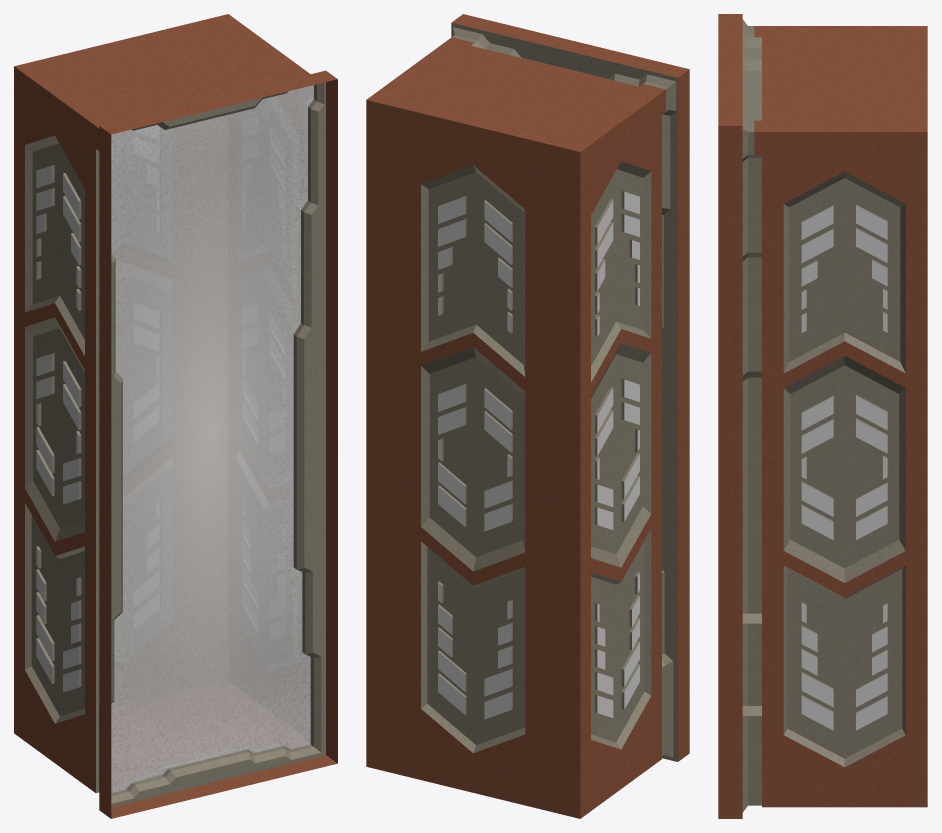
The model's file is building4.dae.
3 views of the same model, side by side, from view 1: azimuth 30°, elevation 25°; view 2: azimuth 150°, elevation 25°; view 3: azimuth 270°, elevation 25° (orthographic).
Visible parts, largest first — view 1: group_0, Ancient_Stasis_Chamber (×7); view 2: Ancient_Stasis_Chamber (×10); view 3: Ancient_Stasis_Chamber (×22).
Part boxes in pixels (x1,y1,x2,y2): group_0: (111,85,313,792); Ancient_Stasis_Chamber (×7): (14,14,337,818); Ancient_Stasis_Chamber (×10): (366,14,689,818); Ancient_Stasis_Chamber (×22): (718,14,927,818).
Bounding box in the file's own units: 33.59 × 26.5 × 96.92.
Materials: 4 (3 with a texture image).
